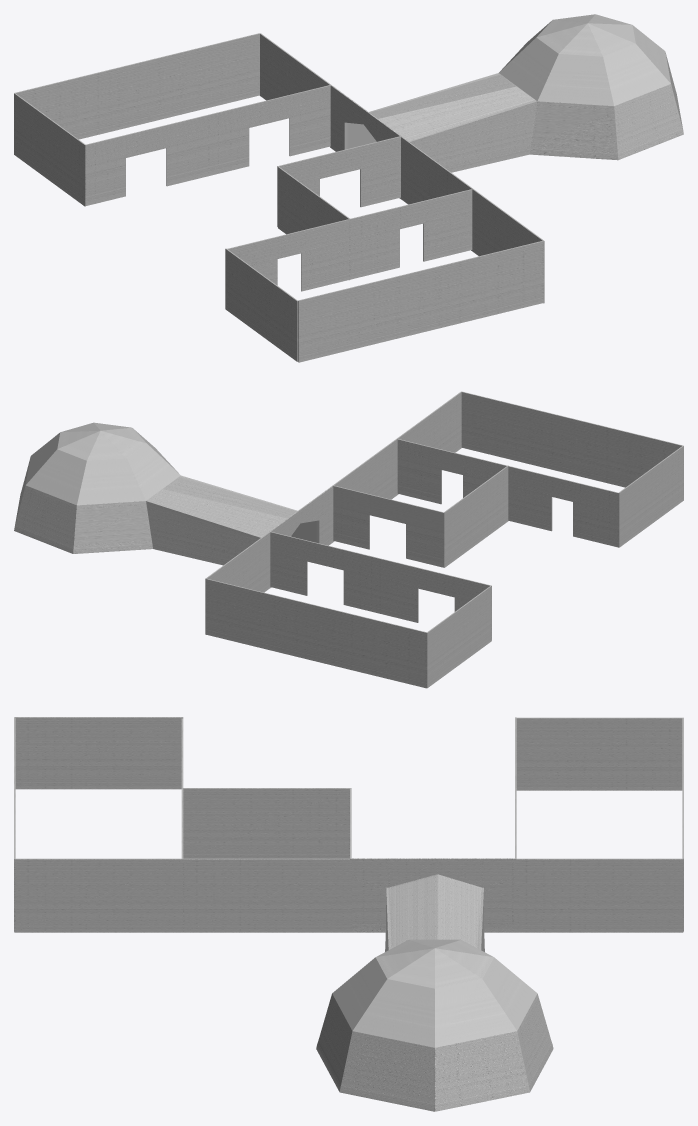
Rendered from Wall_Dome_Model_Export.fbx.
3 renders of one model, top to bottom at view 1: azimuth 30°, elevation 25°; view 2: azimuth 150°, elevation 25°; view 3: azimuth 270°, elevation 25°, orthographic. The views are drawn at different scales.
Parts seen in each view (by area): view 1: dome2, wall17, wall21, wall1, wall14, wall20, wall11, wall5, wall19, wall7, wall9, wall3; view 2: dome2, wall21, wall17, wall14, wall1, wall5, wall20, wall11, wall9, wall3, wall19, wall7; view 3: dome2, wall3, wall19, wall7, wall11, wall20, wall9.
Part boxes in pixels (bbox=[...]): dome2: bbox=[330, 14, 683, 198]; wall17: bbox=[298, 241, 543, 362]; wall21: bbox=[14, 33, 259, 139]; wall1: bbox=[85, 85, 330, 206]; wall14: bbox=[227, 189, 472, 291]; wall20: bbox=[225, 248, 298, 361]; wall11: bbox=[14, 93, 85, 206]; wall5: bbox=[277, 136, 400, 226]; wall19: bbox=[471, 188, 544, 303]; wall7: bbox=[401, 136, 472, 250]; wall9: bbox=[278, 166, 349, 280]; wall3: bbox=[260, 33, 330, 100]; dome2: bbox=[14, 422, 333, 587]; wall21: bbox=[206, 578, 427, 688]; wall17: bbox=[461, 391, 682, 487]; wall14: bbox=[397, 439, 618, 547]; wall1: bbox=[270, 532, 491, 640]; wall5: bbox=[333, 485, 444, 567]; wall20: bbox=[618, 445, 683, 547]; wall11: bbox=[427, 586, 491, 687]; wall9: bbox=[444, 465, 508, 567]; wall3: bbox=[205, 532, 270, 634]; wall19: bbox=[397, 391, 461, 494]; wall7: bbox=[333, 438, 397, 541]; dome2: bbox=[316, 858, 553, 1111]; wall3: bbox=[512, 858, 683, 932]; wall19: bbox=[14, 858, 183, 932]; wall7: bbox=[183, 858, 351, 932]; wall11: bbox=[516, 717, 682, 790]; wall20: bbox=[14, 717, 183, 789]; wall9: bbox=[182, 788, 349, 858].
Size of the model in its own units: 886 by 144 by 781.
